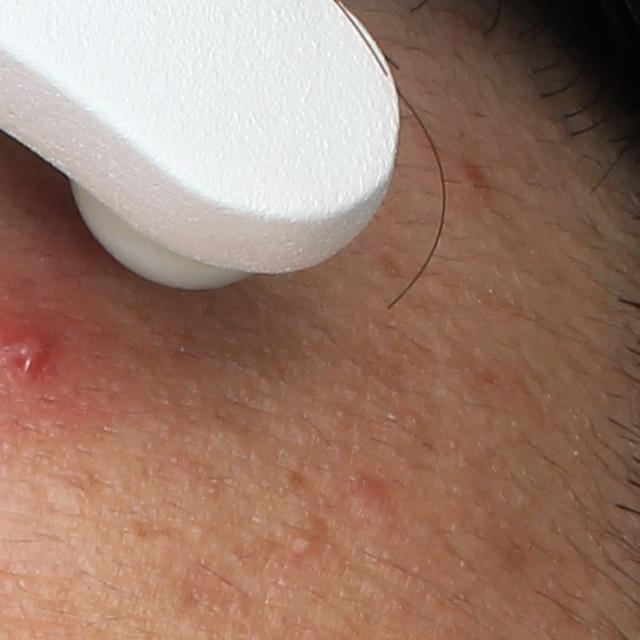papule: (345, 479, 386, 522), (453, 155, 493, 190), (285, 529, 320, 559)
